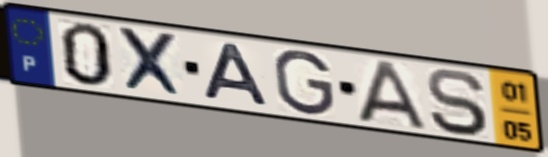0: (57, 21, 115, 89)
A: (355, 59, 429, 131), (200, 41, 273, 110)
G: (271, 48, 338, 117)
S: (424, 67, 491, 139)
X: (113, 24, 189, 101)
